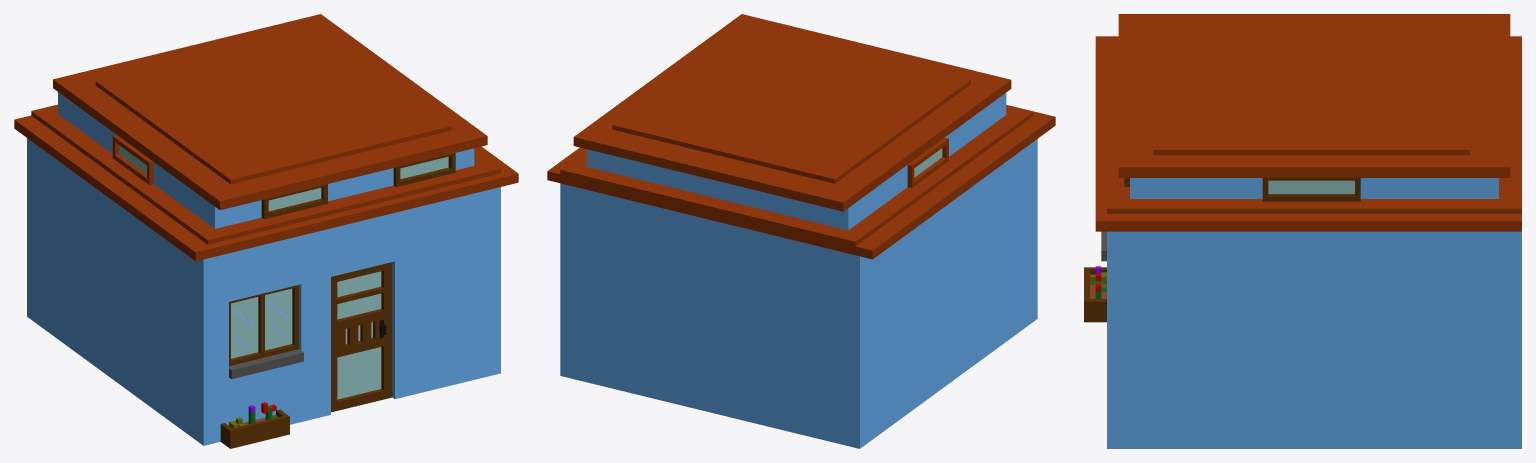
File: house5.obj
3 renders of one model, left to right at view 1: azimuth 30°, elevation 25°; view 2: azimuth 150°, elevation 25°; view 3: azimuth 270°, elevation 25°, orthographic. The views are drawn at different scales.
Bounding box in the file's own units: 76 × 54 × 76.
1 material, 1 textured.
